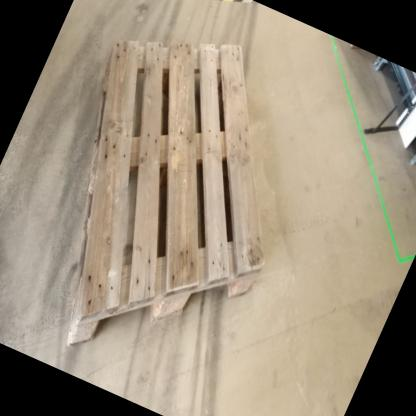BoxFace: (58, 37, 273, 356)
